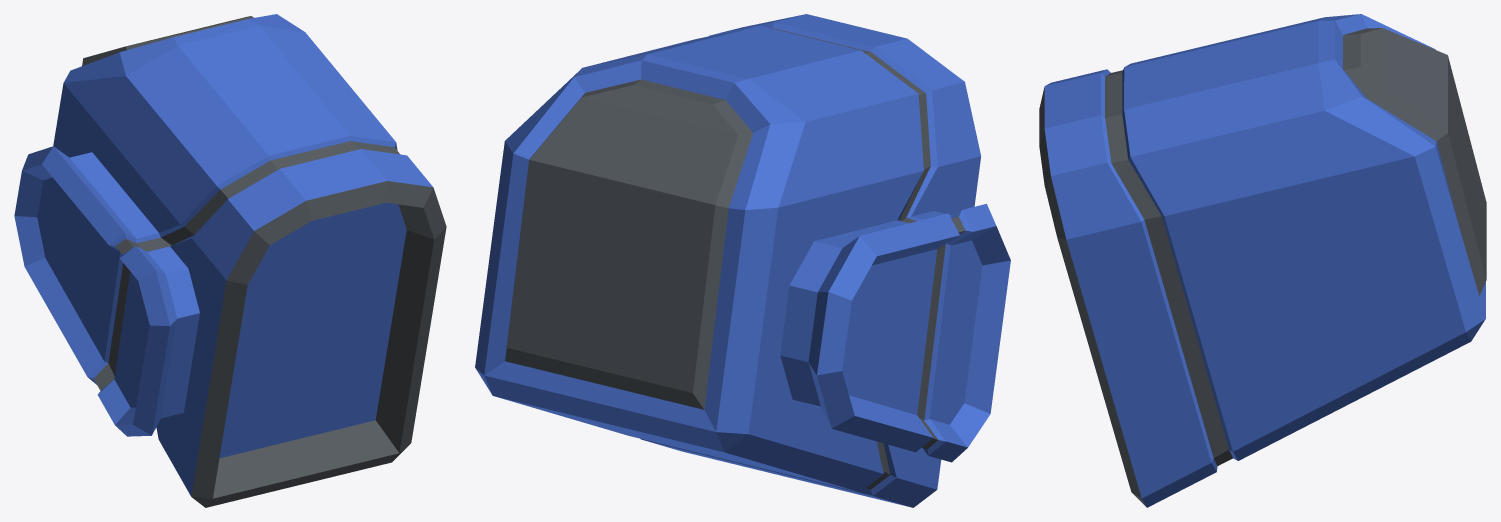
Rendered from Dropship_02_Light_Mount_Blue.fbx.
3 renders of one model, left to right at view 1: azimuth 30°, elevation 25°; view 2: azimuth 150°, elevation 25°; view 3: azimuth 270°, elevation 25°, orthographic. The views are drawn at different scales.
Parts seen in each view (by area): view 1: Dropship_02_Light_Mount_Blue; view 2: Dropship_02_Light_Mount_Blue; view 3: Dropship_02_Light_Mount_Blue.
Part boxes in pixels (x1,y1,x2,y2): Dropship_02_Light_Mount_Blue: (14, 14, 446, 507); Dropship_02_Light_Mount_Blue: (475, 14, 1010, 507); Dropship_02_Light_Mount_Blue: (1039, 14, 1486, 507).
Bounding box in the file's own units: 185 × 256 × 248.
Materials: 1 (1 with a texture image).
